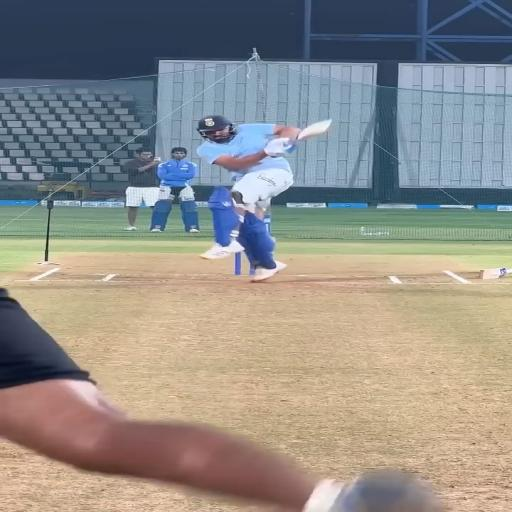Cricket bat: (297, 120, 331, 140)
